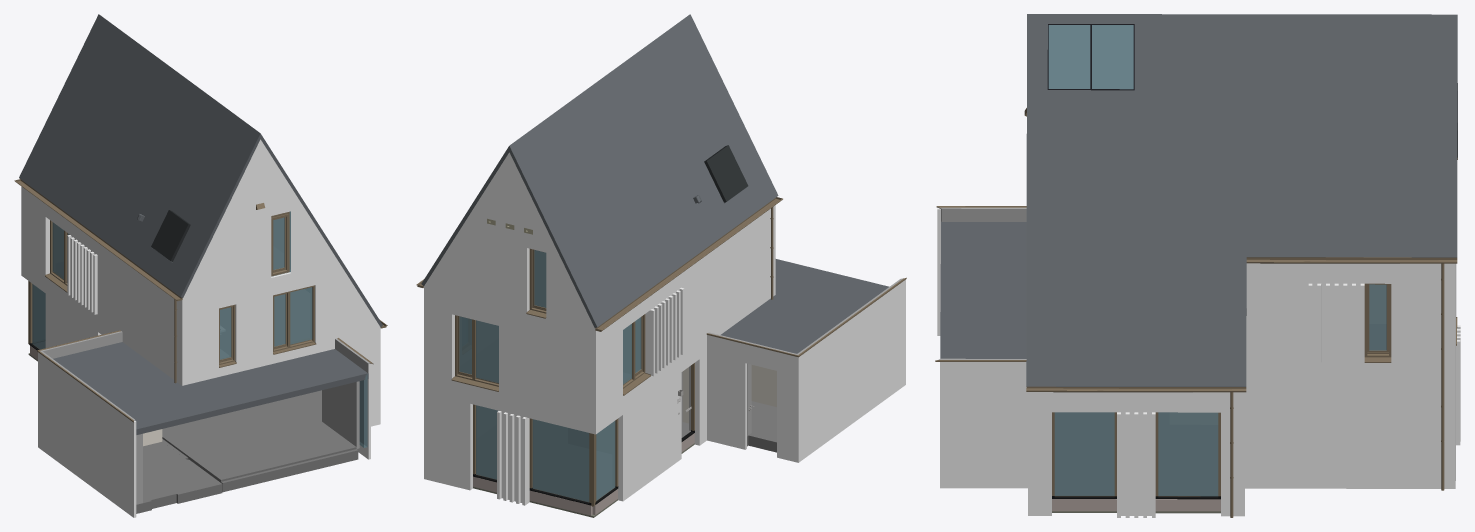
3 renders of one model, left to right at view 1: azimuth 30°, elevation 25°; view 2: azimuth 150°, elevation 25°; view 3: azimuth 270°, elevation 25°, orthographic. The views are drawn at different scales.
Parts seen in each view (by area): view 1: Bouwnummer 100 · brown, Bouwnummer 100 · roof, Bouwnummer 100 · Floor_Grey, Bouwnummer 100 · flat-roof, Bouwnummer 100 · brown-vertical, Bouwnummer 100 · glas_helder_plaat_mix, Bouwnummer 100 · NLRS_h4_aluminium RAL 7039_mix, Bouwnummer 100 · hout_meranti_profiel_RAL7039_mix, Bouwnummer 100 · beige-vertical, Bouwnummer 100 · Int_Struc_Wall_Grey, Bouwnummer 100 · hout_multiplex_plaat_mix, Bouwnummer 100 · NLRS_h4_aluminium_RAL7021 (+2 smaller); view 2: Bouwnummer 100 · brown, Bouwnummer 100 · roof, Bouwnummer 100 · brown-vertical, Bouwnummer 100 · glas_helder_plaat_mix, Bouwnummer 100 · flat-roof, Bouwnummer 100 · hout_meranti_profiel_RAL7039_mix, Bouwnummer 100 · NLRS_h4_aluminium RAL 7039_mix, Bouwnummer 100 · Floor_Grey, Bouwnummer 100 · NLRS_h4_aluminium_RAL7021, Bouwnummer 100 · beton_generiek_steen_mix, Bouwnummer 100 · Int_wall_non_Stru, Bouwnummer 100 · beige-vertical; view 3: Bouwnummer 100 · roof, Bouwnummer 100 · brown, Bouwnummer 100 · brown-vertical, Bouwnummer 100 · flat-roof, Bouwnummer 100 · glas_helder_plaat_mix, Bouwnummer 100 · NLRS_o7_glas_pv paneel, Bouwnummer 100 · NLRS_h4_aluminium RAL 7039_mix, Bouwnummer 100 · hout_meranti_profiel_RAL7039_mix, Bouwnummer 100 · beton_generiek_steen_mix, Bouwnummer 100 · hout_multiplex_plaat_mix.
Part boxes in pixels (box(x1,y1,x2,y2)): Bouwnummer 100 · brown: box(21, 139, 380, 517); Bouwnummer 100 · roof: box(19, 14, 382, 327); Bouwnummer 100 · Floor_Grey: box(136, 390, 358, 513); Bouwnummer 100 · flat-roof: box(53, 342, 368, 434); Bouwnummer 100 · brown-vertical: box(21, 186, 380, 439); Bouwnummer 100 · glas_helder_plaat_mix: box(32, 217, 312, 359); Bouwnummer 100 · NLRS_h4_aluminium RAL 7039_mix: box(14, 179, 387, 422); Bouwnummer 100 · hout_meranti_profiel_RAL7039_mix: box(28, 214, 314, 364); Bouwnummer 100 · beige-vertical: box(122, 333, 330, 385); Bouwnummer 100 · Int_Struc_Wall_Grey: box(272, 272, 359, 448); Bouwnummer 100 · hout_multiplex_plaat_mix: box(40, 331, 372, 420); Bouwnummer 100 · NLRS_h4_aluminium_RAL7021: box(151, 210, 190, 261); Bouwnummer 100 · brown: box(424, 152, 905, 505); Bouwnummer 100 · roof: box(421, 14, 778, 327); Bouwnummer 100 · brown-vertical: box(424, 205, 905, 434); Bouwnummer 100 · glas_helder_plaat_mix: box(459, 250, 641, 502); Bouwnummer 100 · flat-roof: box(721, 259, 889, 353); Bouwnummer 100 · hout_meranti_profiel_RAL7039_mix: box(455, 248, 694, 505); Bouwnummer 100 · NLRS_h4_aluminium RAL 7039_mix: box(416, 197, 906, 502); Bouwnummer 100 · Floor_Grey: box(681, 372, 776, 452); Bouwnummer 100 · NLRS_h4_aluminium_RAL7021: box(704, 145, 748, 202); Bouwnummer 100 · beton_generiek_steen_mix: box(473, 433, 694, 515); Bouwnummer 100 · Int_wall_non_Stru: box(682, 365, 776, 423); Bouwnummer 100 · beige-vertical: box(710, 284, 775, 334); Bouwnummer 100 · roof: box(1026, 14, 1457, 386); Bouwnummer 100 · brown: box(937, 232, 1460, 517); Bouwnummer 100 · brown-vertical: box(937, 207, 1456, 412); Bouwnummer 100 · flat-roof: box(940, 221, 1026, 358); Bouwnummer 100 · glas_helder_plaat_mix: box(1054, 284, 1386, 496); Bouwnummer 100 · NLRS_o7_glas_pv paneel: box(1048, 25, 1133, 89); Bouwnummer 100 · NLRS_h4_aluminium RAL 7039_mix: box(935, 108, 1457, 517); Bouwnummer 100 · hout_meranti_profiel_RAL7039_mix: box(1052, 283, 1391, 496); Bouwnummer 100 · beton_generiek_steen_mix: box(1052, 499, 1220, 511); Bouwnummer 100 · hout_multiplex_plaat_mix: box(937, 207, 1026, 359).
Size of the model in its own units: 11.5 by 12.22 by 13.71.
